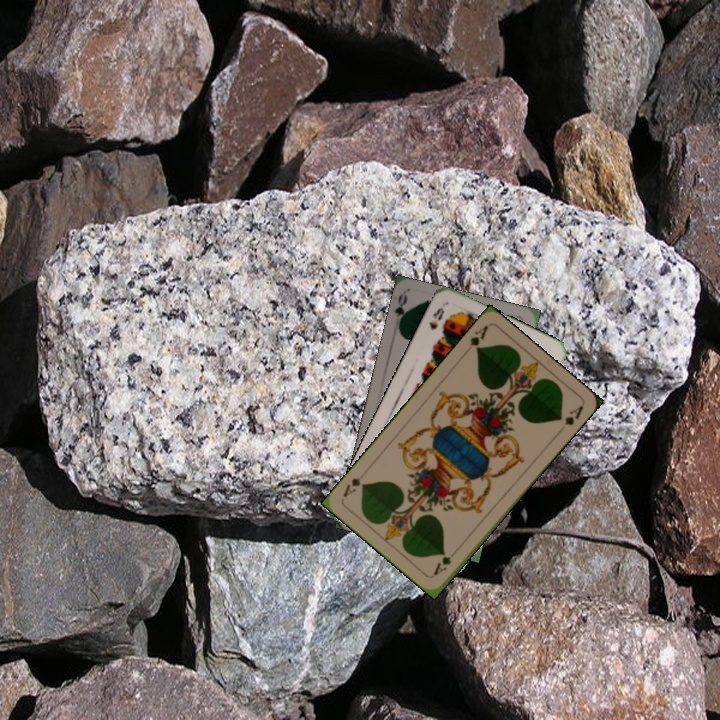GA: (460, 322, 490, 357), (429, 552, 454, 578)
GO: (391, 291, 412, 332)
S8: (425, 303, 447, 333)
